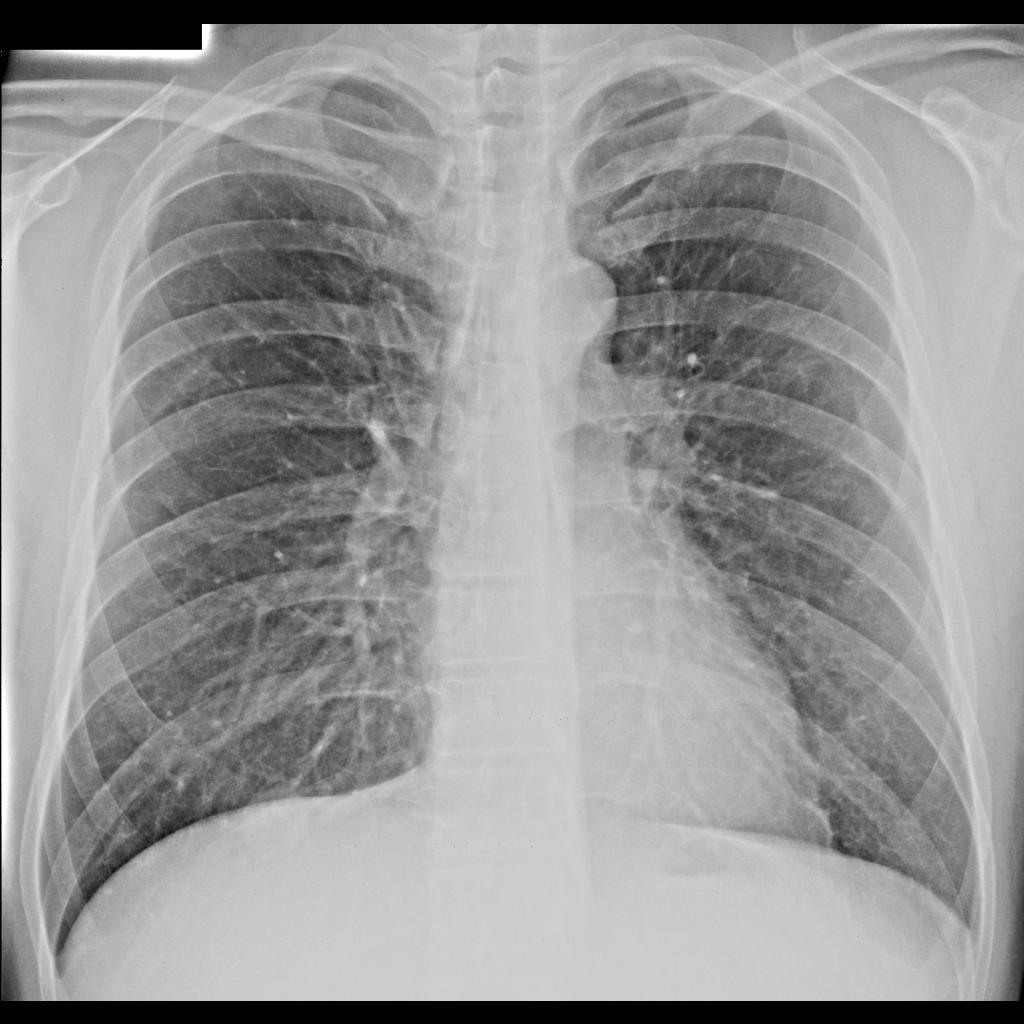Nodule: (237, 785, 307, 855)
